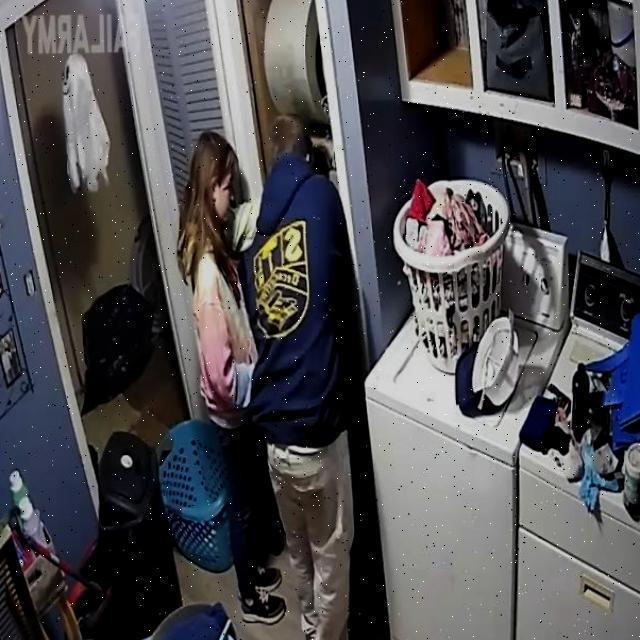person: (246, 114, 365, 640), (178, 133, 286, 624)
